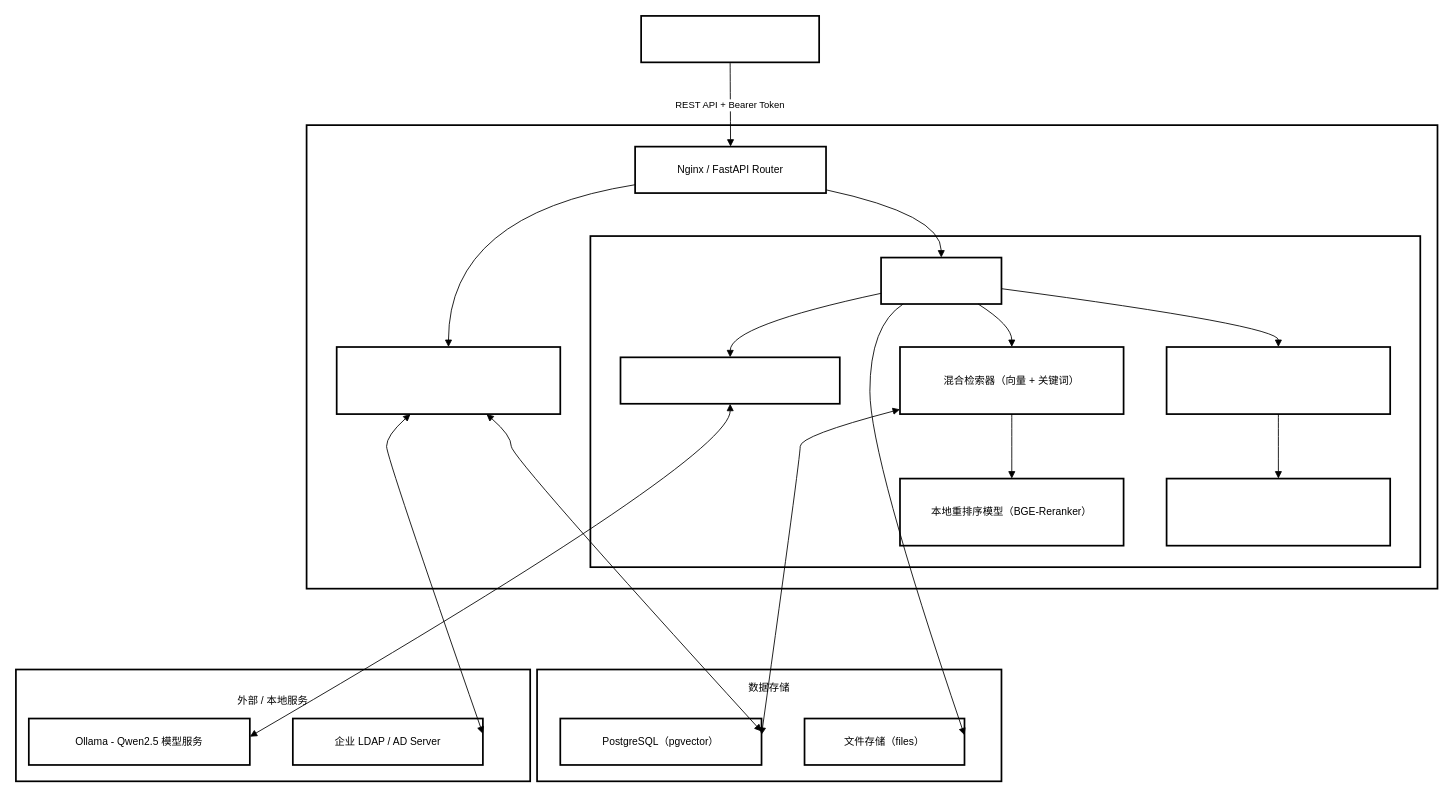
This 1453x808 diagram has some shape labels left out. The centre of each missing label's shape, as x and y in pixels:
业务逻辑层: point (941, 280)
前端（Vue3 / Web）: point (730, 39)
向量化模型（BGE-M3 Small）: point (1278, 511)
对话引擎（Context Mode）: point (729, 380)
文档解析与切片（PyMuPDF）: point (1278, 380)
认证模块（OAuth2 / LDAP）: point (448, 380)
